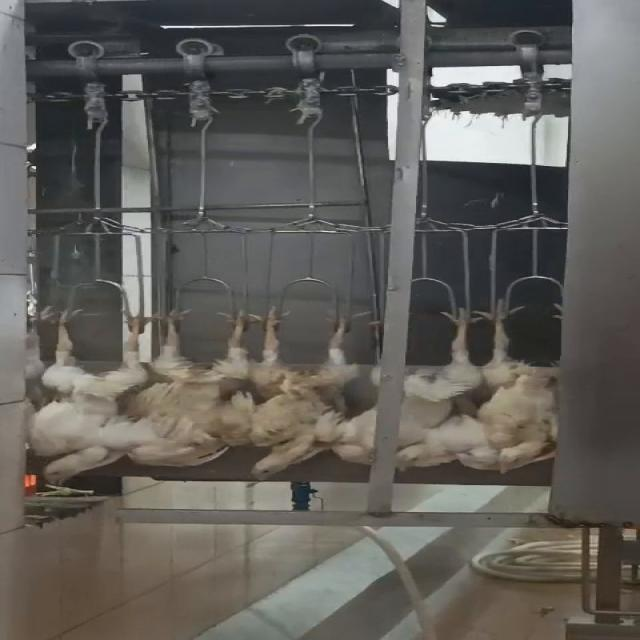chicken: (19, 306, 158, 495), (330, 300, 482, 471), (242, 300, 381, 483), (448, 298, 571, 478), (121, 312, 256, 468)
